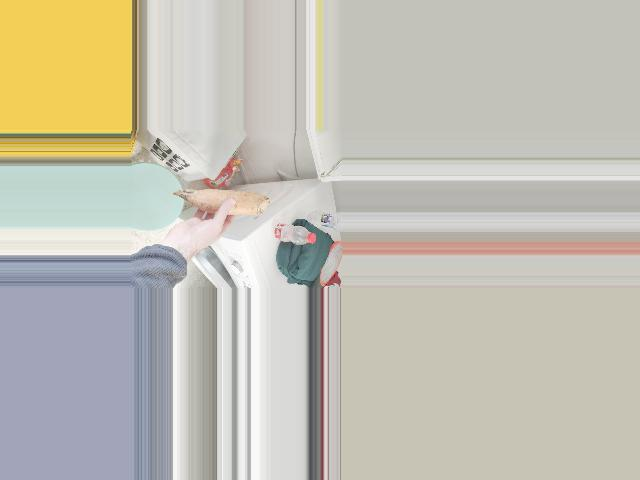sweet_potato: (171, 182, 274, 222)
